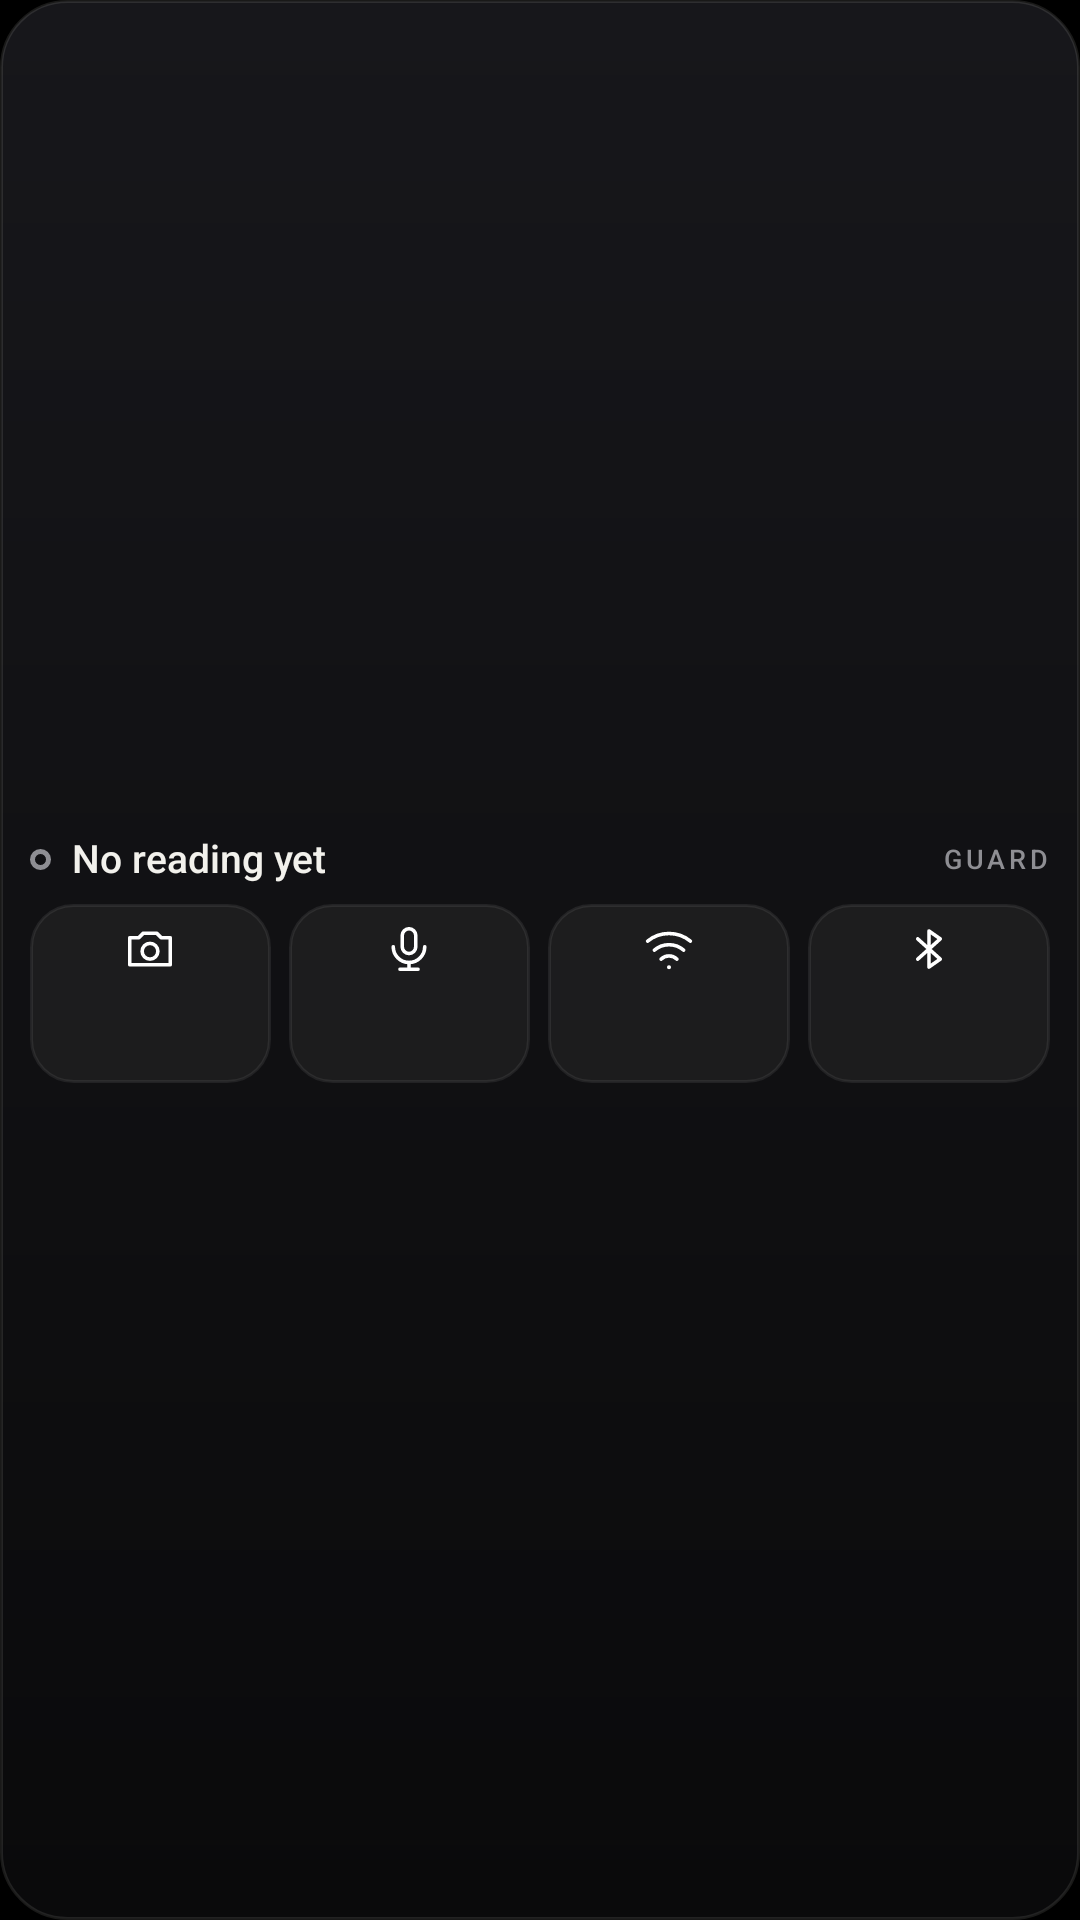

Screen size 1080×1920. Icon name, then its box in pixels as box=[x1, y1, x2, y2]:
camera: box=[128, 931, 172, 967]
microphone: box=[391, 927, 427, 971]
wifi: box=[646, 931, 692, 969]
